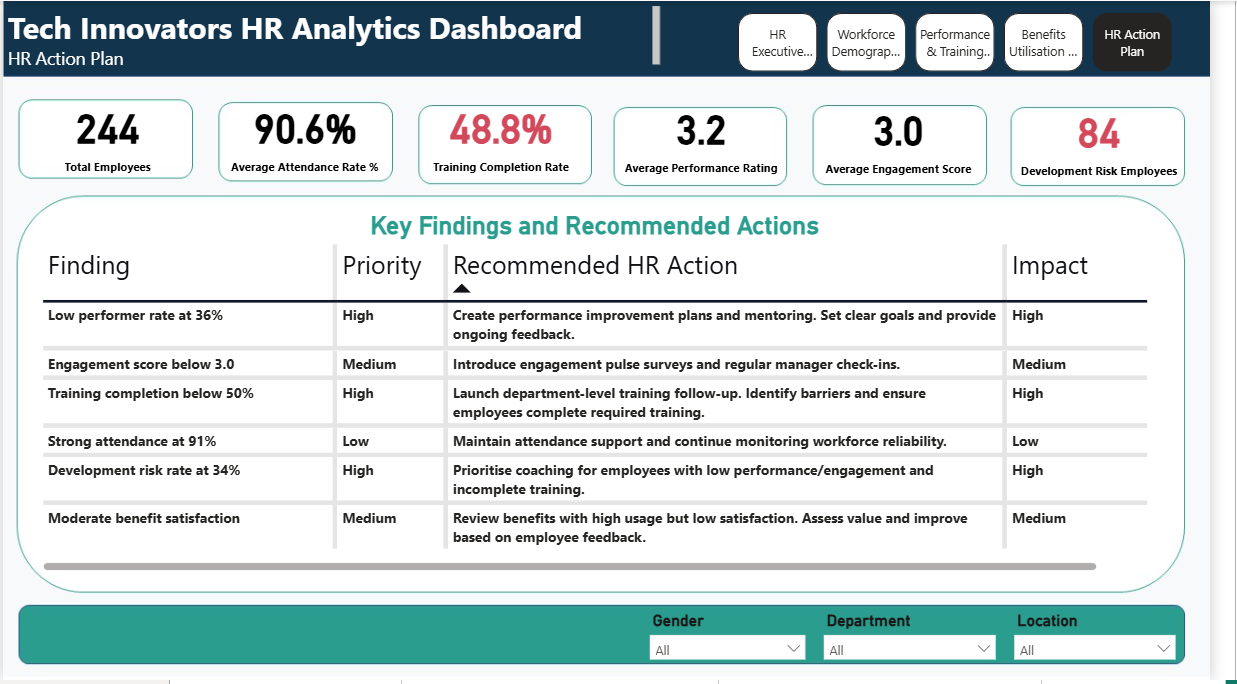

The dashboard page shown, as its layout file describes it:
{"tool":"powerbi","page":{"name":"HR Action Plan","canvas":[1280,720],"ordinal":4},"visuals":[{"type":"cardVisual","fields":{"Data":["Measures_Table.Total Employees"]},"box":[25.4,105,171.8,85.9],"z":0},{"type":"cardVisual","fields":{"Data":["Measures_Table.Average Performance Rating"]},"box":[639.4,105,202,87.5],"z":1000},{"type":"cardVisual","fields":{"Data":["Measures_Table.Average Engagement Score"]},"box":[852.6,106.6,194.1,85.9],"z":2000},{"type":"cardVisual","fields":{"Data":["Measures_Table.Training Completion Rate"]},"box":[439,105,178.1,85.9],"z":3000},{"type":"cardVisual","fields":{"Data":["Measures_Table.Average Attendance Rate %"]},"box":[222.7,105,195.6,85.9],"z":4000},{"type":"cardVisual","fields":{"Data":["Employee_Performance_Data.At-Risk Employees"]},"box":[1057.8,106.6,210,90.7],"z":5000},{"type":"tableEx","title":"Key Findings and Recommended Actions","fields":{"Values":["HR_Action_Plan.Finding","HR_Action_Plan.Priority","HR_Action_Plan.Recommended HR Action","HR_Action_Plan.Impact"]},"box":[36.6,222.7,1181.8,386.5],"z":6000},{"type":"slicer","fields":{"Values":["Employee_Demographics_Data.Location"]},"box":[1062.3,641.6,190.4,57.1],"z":7000},{"type":"slicer","fields":{"Values":["Employee_Demographics_Data.Gender"]},"box":[675.9,641.6,184.7,57.1],"z":8000},{"type":"slicer","fields":{"Values":["Employee_Performance_Data.Department"]},"box":[860.5,641.6,201.8,57.1],"z":9000},{"type":"pageNavigator","box":[779.4,12.7,464.5,62],"z":10000},{"type":"actionButton","box":[773,14.3,93.8,60.4],"z":11000},{"type":"actionButton","box":[866.9,12.7,93.8,60.4],"z":12000},{"type":"actionButton","box":[1062.5,12.7,93.8,60.4],"z":13000},{"type":"actionButton","box":[960.7,12.7,93.8,60.4],"z":14000},{"type":"textbox","box":[0,0,701.5,74.8],"z":15000}]}

Visuals, with their boxes in screenshot pixels (x1, y1, x2, y2), scaled from the page's 1280x720 canvas onto the 1237x684 screenshot:
cardVisual - Measures_Table.Total Employees: region(25, 100, 191, 181)
cardVisual - Measures_Table.Average Performance Rating: region(618, 100, 813, 183)
cardVisual - Measures_Table.Average Engagement Score: region(824, 101, 1012, 183)
cardVisual - Measures_Table.Training Completion Rate: region(424, 100, 596, 181)
cardVisual - Measures_Table.Average Attendance Rate %: region(215, 100, 404, 181)
cardVisual - Employee_Performance_Data.At-Risk Employees: region(1022, 101, 1225, 187)
"Key Findings and Recommended Actions" tableEx: region(35, 212, 1177, 579)
slicer - Employee_Demographics_Data.Location: region(1027, 610, 1211, 664)
slicer - Employee_Demographics_Data.Gender: region(653, 610, 832, 664)
slicer - Employee_Performance_Data.Department: region(832, 610, 1027, 664)
pageNavigator: region(753, 12, 1202, 71)
actionButton: region(747, 14, 838, 71)
actionButton: region(838, 12, 928, 69)
actionButton: region(1027, 12, 1117, 69)
actionButton: region(928, 12, 1019, 69)
textbox: region(0, 0, 678, 71)
